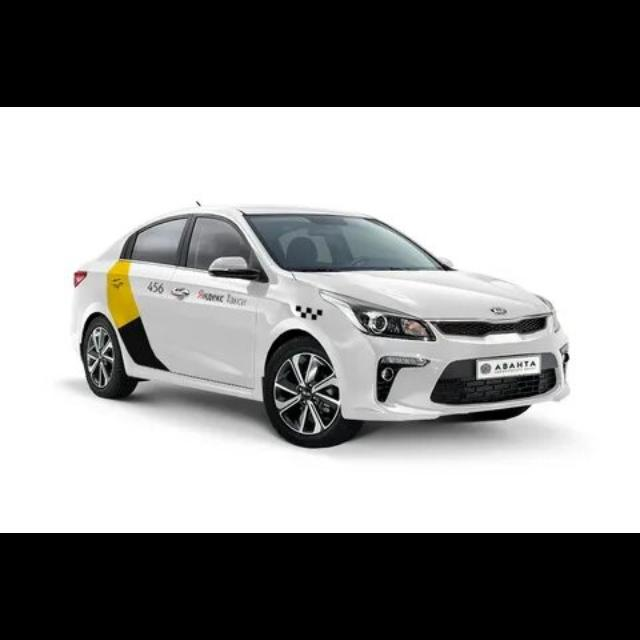taxi: (71, 201, 572, 449)
